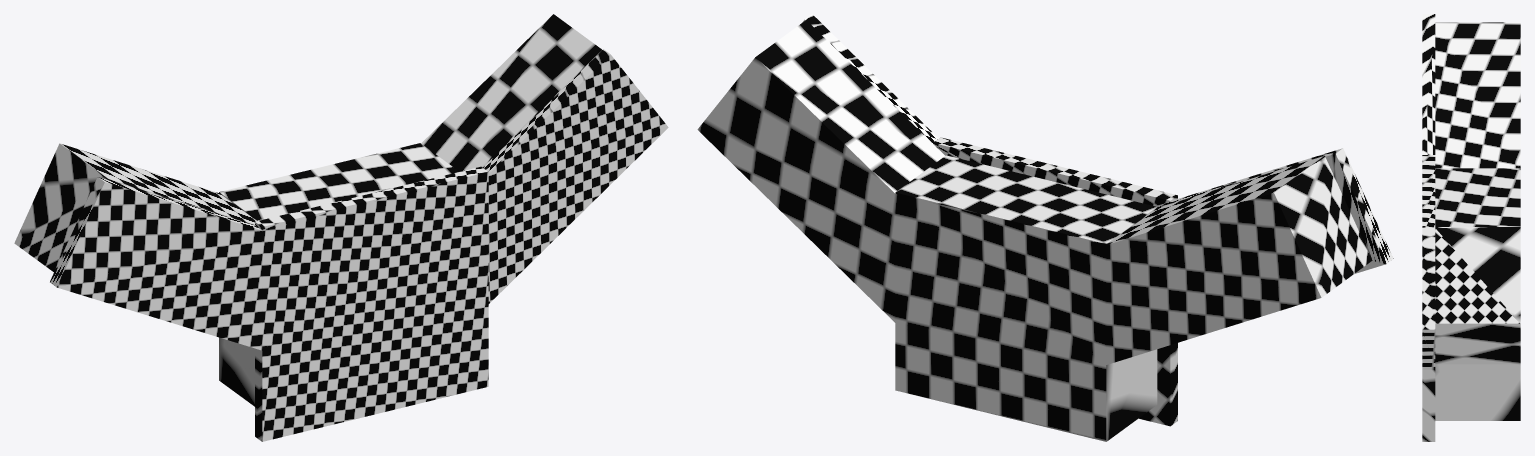
Rendered from architecture.obj.
The picture shows the model from 3 angles, left to right: view 1: azimuth 30°, elevation 25°; view 2: azimuth 150°, elevation 25°; view 3: azimuth 270°, elevation 25°; orthographic projection. The views are drawn at different scales.
Size of the model in its own units: 146 by 69 by 23.
